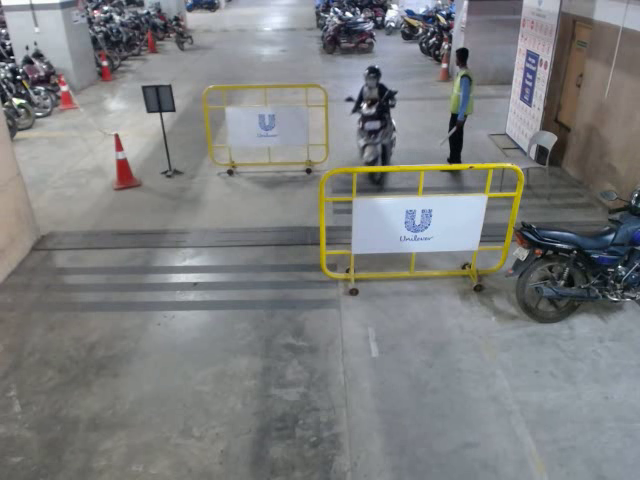with_helmet: (364, 65, 383, 90)
